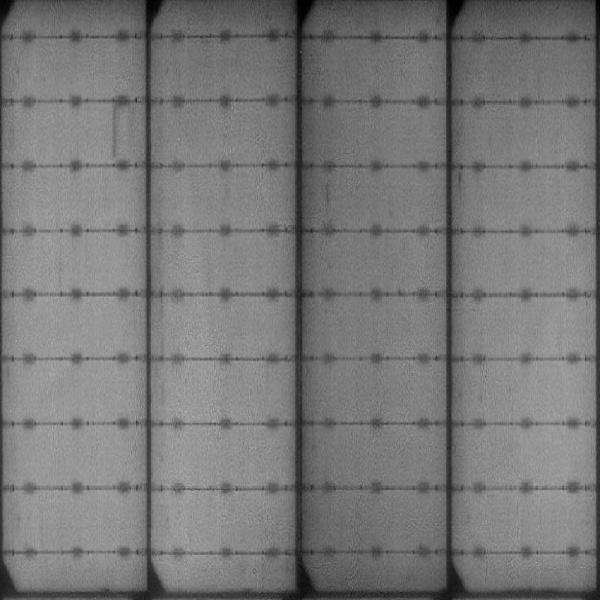scratch: (108, 105, 123, 158)
